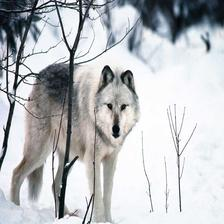WOLF: (9, 66, 135, 212)
